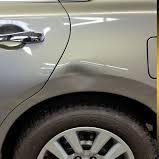dent: (55, 60, 105, 95)
